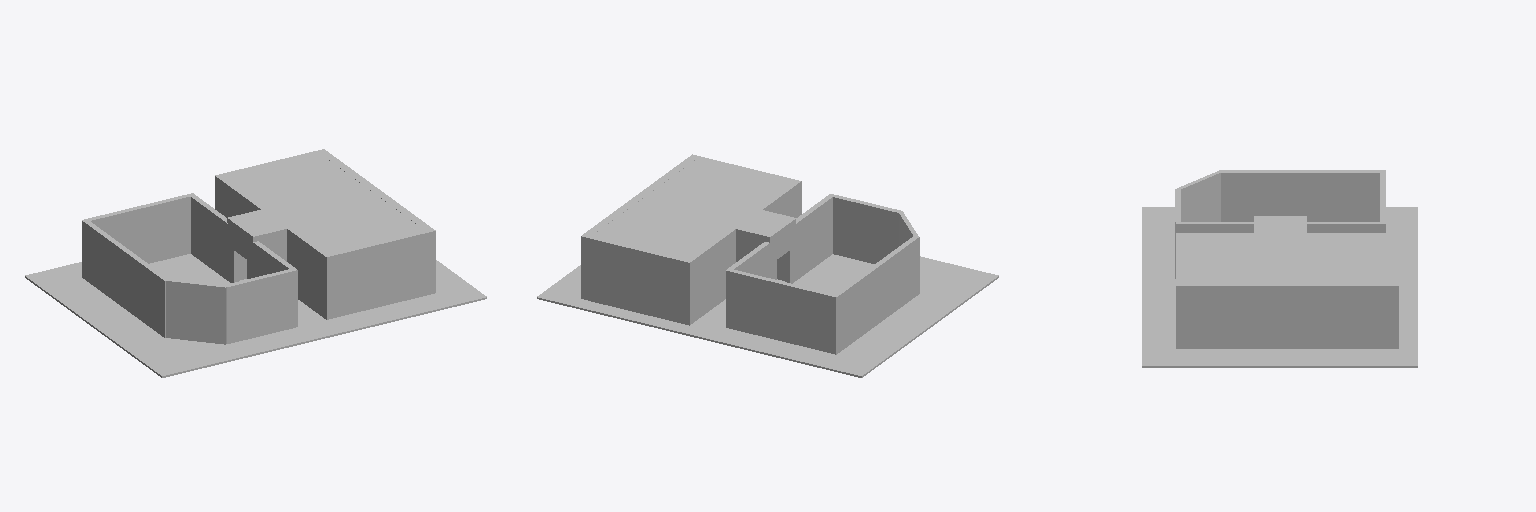
Rendered from Room.obj.
3 renders of one model, left to right at view 1: azimuth 30°, elevation 25°; view 2: azimuth 150°, elevation 25°; view 3: azimuth 270°, elevation 25°, orthographic.
Parts seen in each view (by area): view 1: Cube.004, Cube.005, Cube, Cube.002, Cube.003, Cube.001; view 2: Cube.004, Cube.005, Cube.002, Cube, Cube.003; view 3: Cube.004, Cube.005, Cube, Cube.001.
Boxes of the visible parts, x1,y1,x2,y2 form: Cube.004: [188, 149, 435, 327]; Cube.005: [25, 254, 486, 377]; Cube: [83, 220, 169, 337]; Cube.002: [82, 193, 194, 277]; Cube.003: [225, 269, 292, 343]; Cube.001: [166, 279, 226, 344]; Cube.004: [581, 154, 833, 325]; Cube.005: [537, 254, 998, 377]; Cube.002: [726, 269, 838, 354]; Cube: [835, 236, 919, 352]; Cube.003: [833, 195, 900, 263]; Cube.004: [1176, 216, 1398, 348]; Cube.005: [1142, 207, 1417, 367]; Cube: [1219, 170, 1382, 221]; Cube.001: [1176, 170, 1223, 221].
Size of the model in its own units: 36.74 by 6.96 by 26.95.